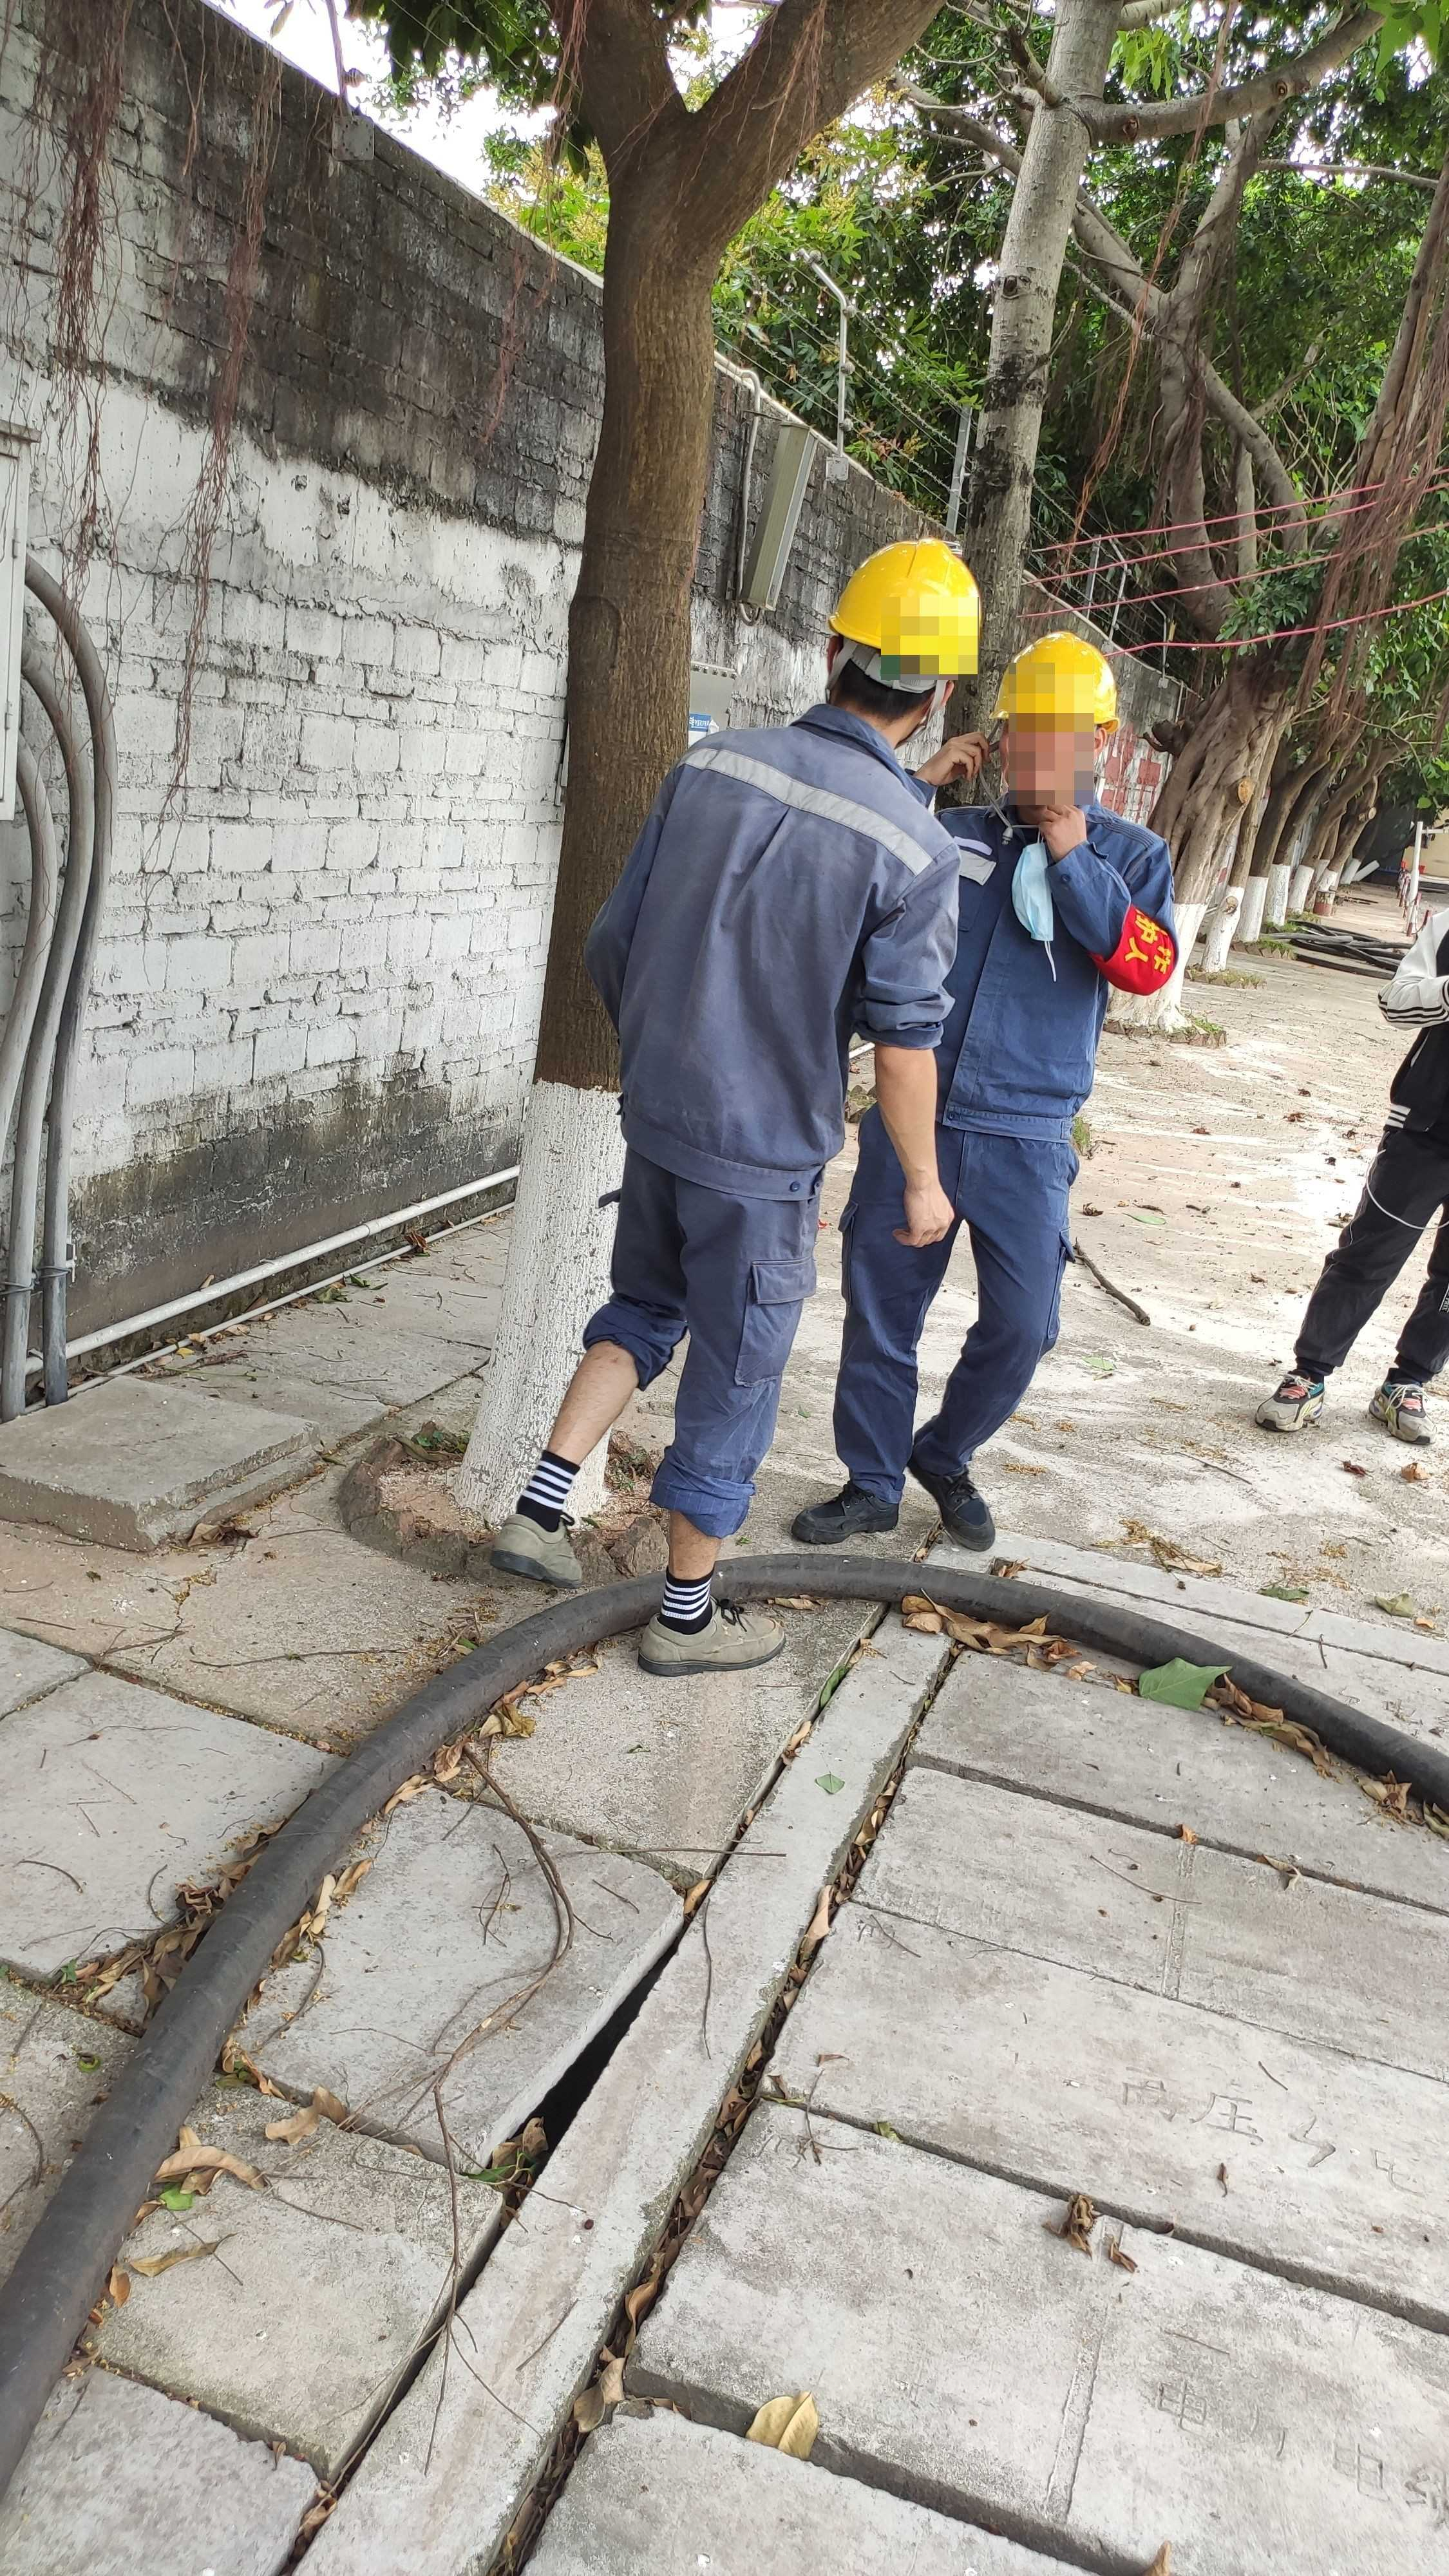downcloth: (1293, 1127, 1447, 1387)
downsuit: (833, 1150, 1079, 1504), (568, 1207, 810, 1539)
upsuit: (580, 711, 948, 1185), (947, 780, 1182, 1139)
wrongbottom: (541, 1295, 655, 1479), (653, 1444, 754, 1599)
wrongtop: (855, 1019, 961, 1251)
